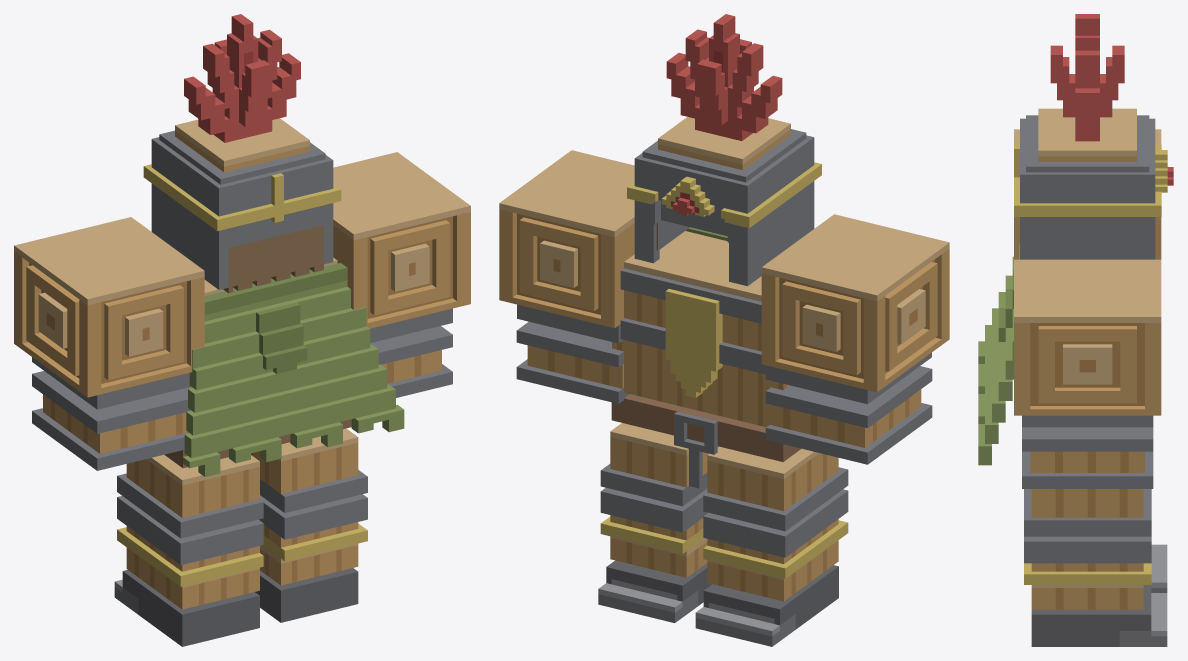
File: warden_male_pieces.glb
3 views of the same model, side by side, from view 1: azimuth 30°, elevation 25°; view 2: azimuth 150°, elevation 25°; view 3: azimuth 270°, elevation 25° (orthographic).
Parts seen in each view (by area): view 1: Head, Back, Chest, LeftUpperArm, LeftShin, LeftForearm, RightShin, LeftThigh, RightUpperArm, RightThigh, RightForearm, LeftFoot (+1 smaller); view 2: Chest, Head, LeftShin, LeftUpperArm, LeftForearm, RightShin, LeftThigh, RightUpperArm, RightForearm, Waist, RightThigh, LeftFoot (+1 smaller); view 3: Head, Chest, RightShin, RightUpperArm, RightForearm, RightThigh, Back, RightFoot, LeftFoot.
Part boxes in pixels (<box>): Head: <box>143,14,341,293</box>; Back: <box>183,263,404,476</box>; Chest: <box>14,152,470,388</box>; LeftUpperArm: <box>14,288,204,409</box>; LeftShin: <box>117,496,263,625</box>; LeftForearm: <box>32,371,190,470</box>; RightShin: <box>259,494,367,601</box>; LeftThigh: <box>117,455,263,538</box>; RightUpperArm: <box>343,249,470,342</box>; RightThigh: <box>251,428,367,512</box>; RightForearm: <box>370,326,452,397</box>; LeftFoot: <box>114,579,259,646</box>; Chest: <box>499,150,949,427</box>; Head: <box>627,14,821,286</box>; LeftShin: <box>703,489,848,619</box>; LeftUpperArm: <box>775,285,949,404</box>; LeftForearm: <box>765,366,932,464</box>; RightShin: <box>600,488,707,596</box>; LeftThigh: <box>703,446,848,531</box>; RightUpperArm: <box>499,245,604,339</box>; RightForearm: <box>516,322,629,403</box>; Waist: <box>611,394,801,488</box>; RightThigh: <box>600,423,718,506</box>; LeftFoot: <box>695,577,838,646</box>; Head: <box>1014,14,1173,259</box>; Chest: <box>1014,129,1161,359</box>; RightShin: <box>1024,536,1151,625</box>; RightUpperArm: <box>1014,356,1161,427</box>; RightForearm: <box>1022,427,1153,488</box>; RightThigh: <box>1024,489,1151,536</box>; Back: <box>978,243,1019,465</box>; RightFoot: <box>1031,593,1167,646</box>; LeftFoot: <box>1151,544,1167,592</box>.
Size of the model in its own units: 4.68 by 6.83 by 2.06.
